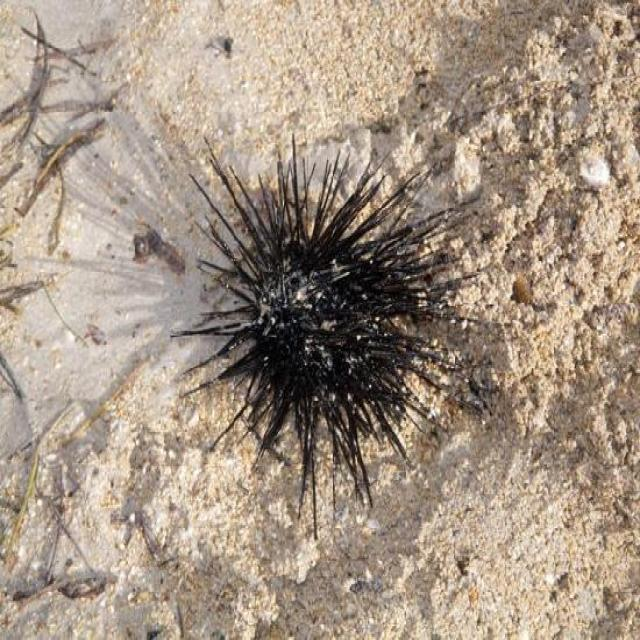Urchin: (165, 130, 490, 533)
